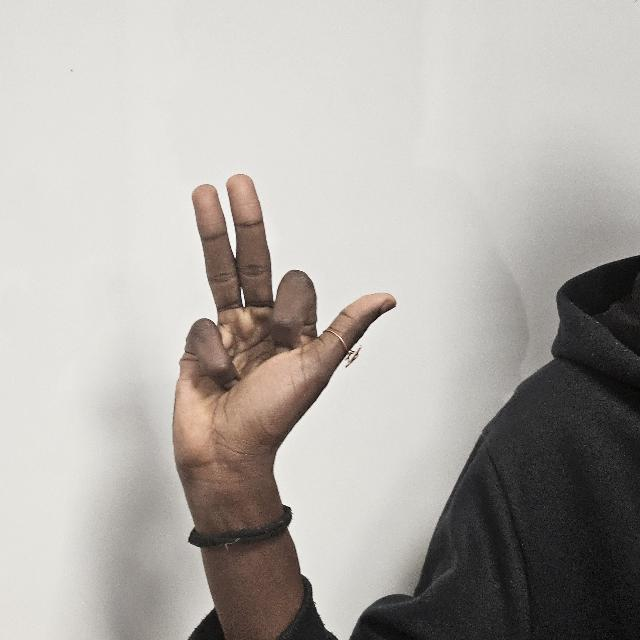R: (173, 172, 395, 534)
